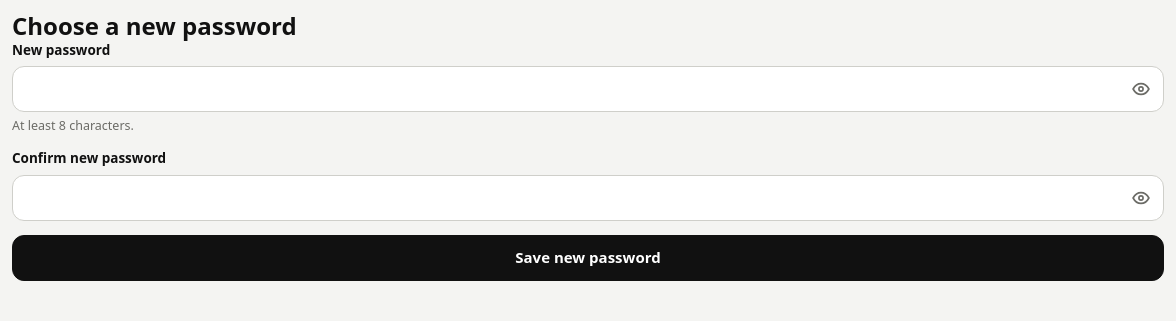
Scenario: ResetForm › checks the password before asking the server
This screenshot has width=1176, height=321.
Click the button "Save new password". click: (588, 258)
box: [12,235,1164,281]
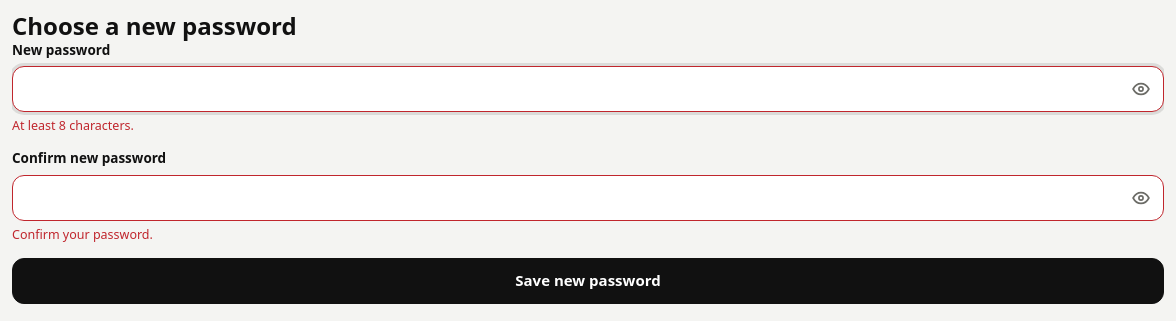
Result: the text "Confirm your password." is shown at [12,226,153,243]
